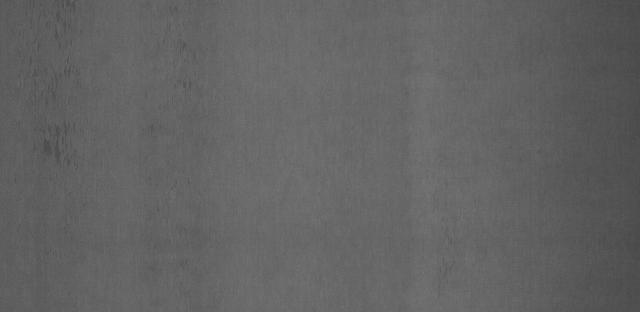silk_spot: (137, 46, 202, 121), (32, 33, 72, 153)
